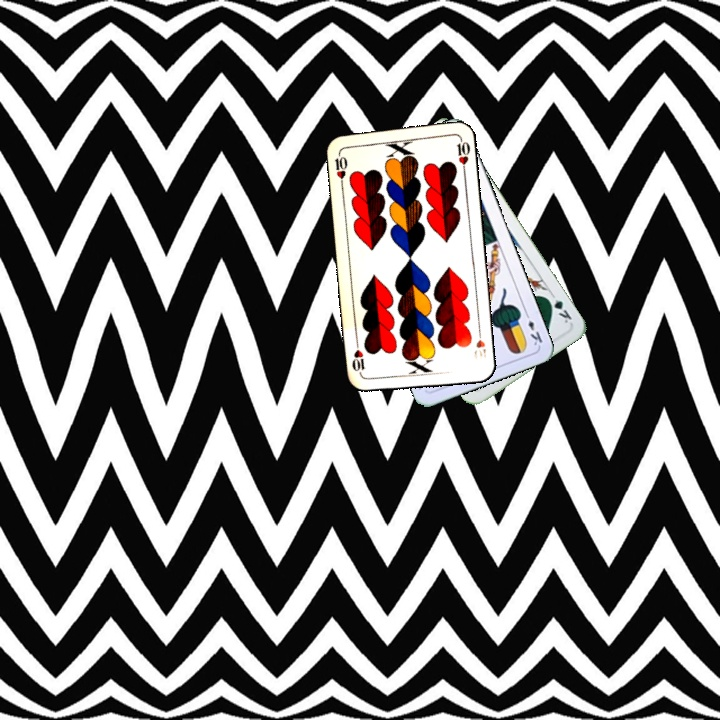EK: (521, 308, 545, 348)
GK: (542, 289, 575, 326)
H10: (469, 325, 489, 363), (331, 148, 350, 188)
